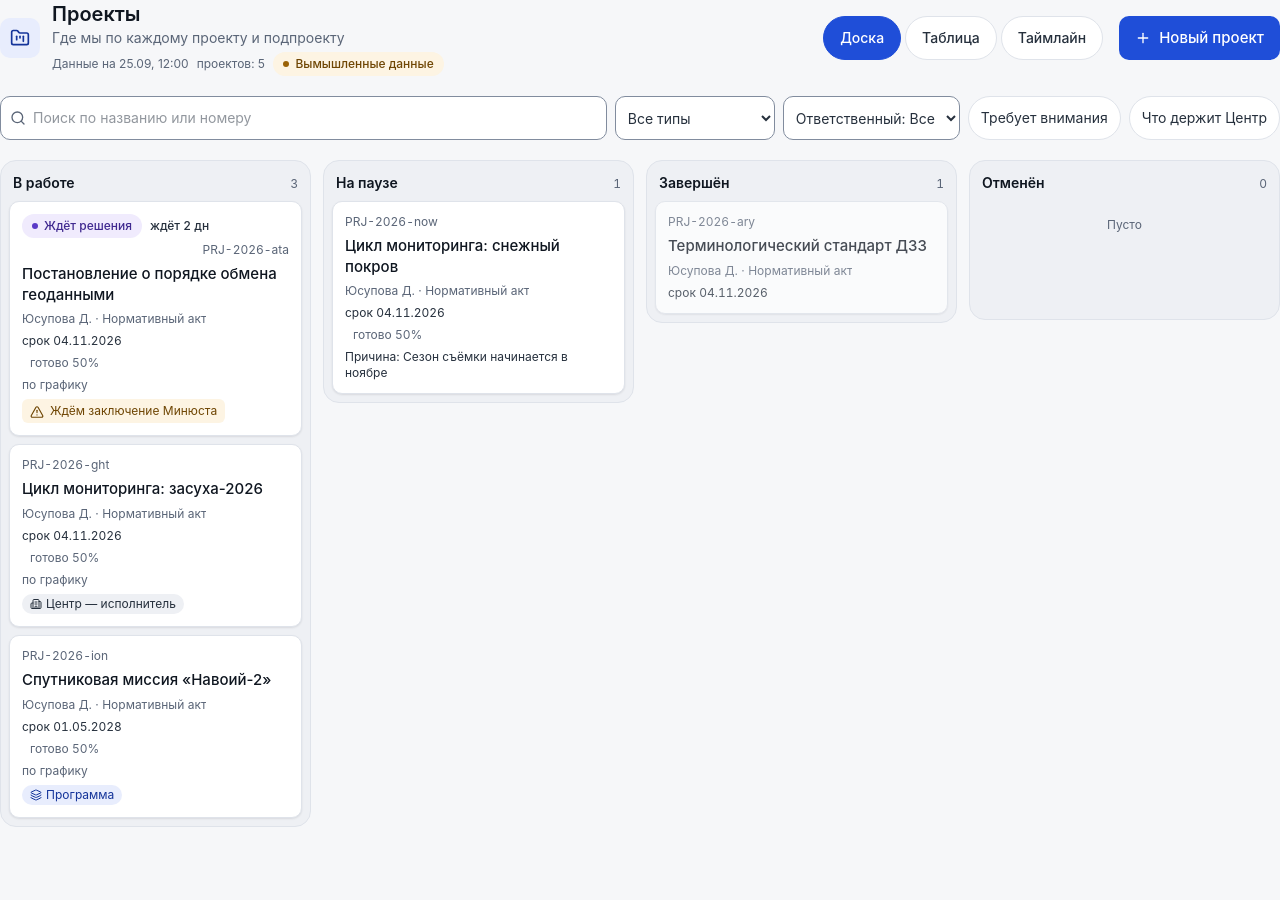
Scenario: Проекты › новый проект — название и тип, вехи из шаблона
Click the button "Новый проект".
click(1200, 38)  # box [1119,16,1279,60]
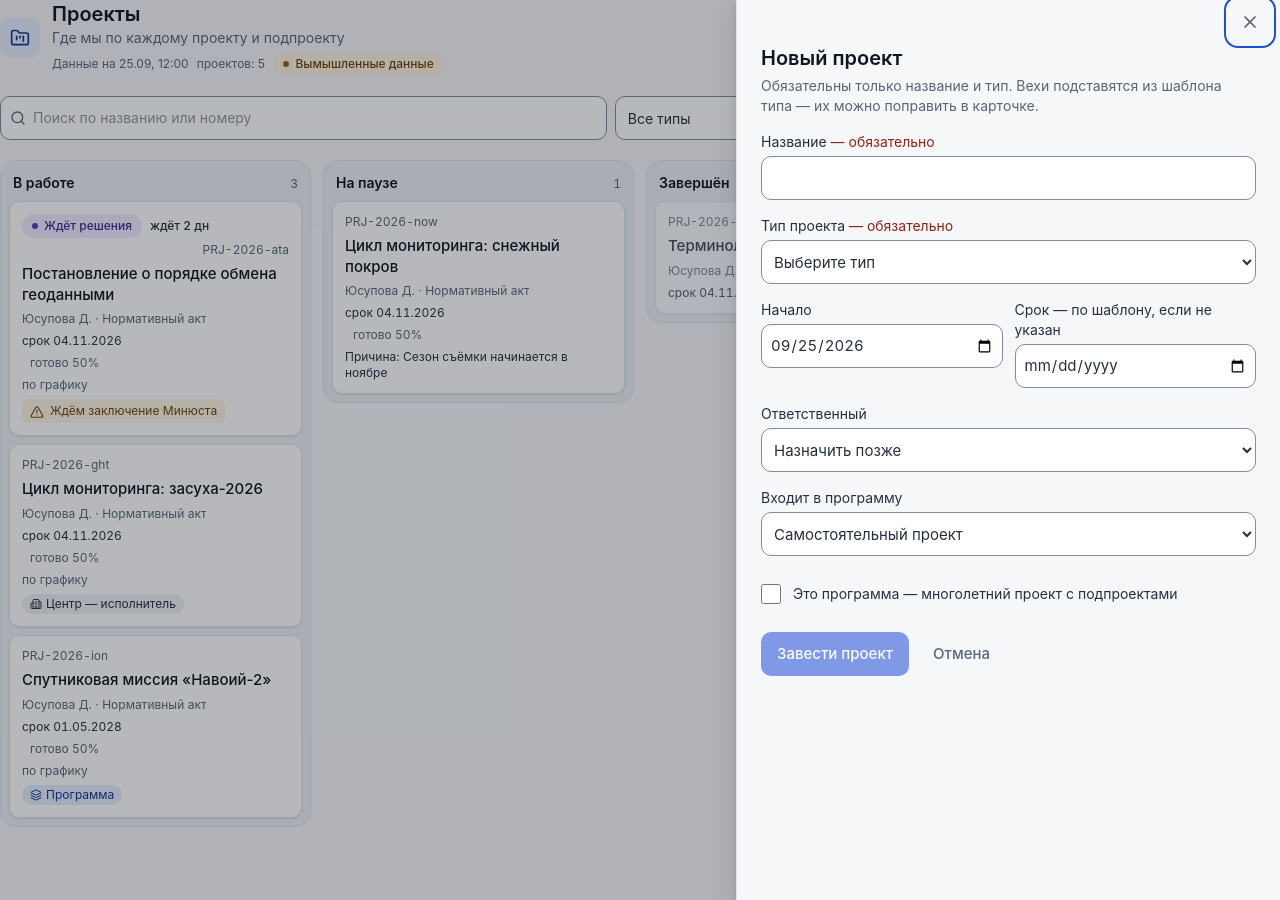
Now the button "Завести проект" is disabled, box [761,632,909,676]
Type "Положение о спутниковых данных" into the field labelled "Название — обязательно".
click(1008, 178); type("Положение о спутниковых данных")  # box [761,156,1256,200]
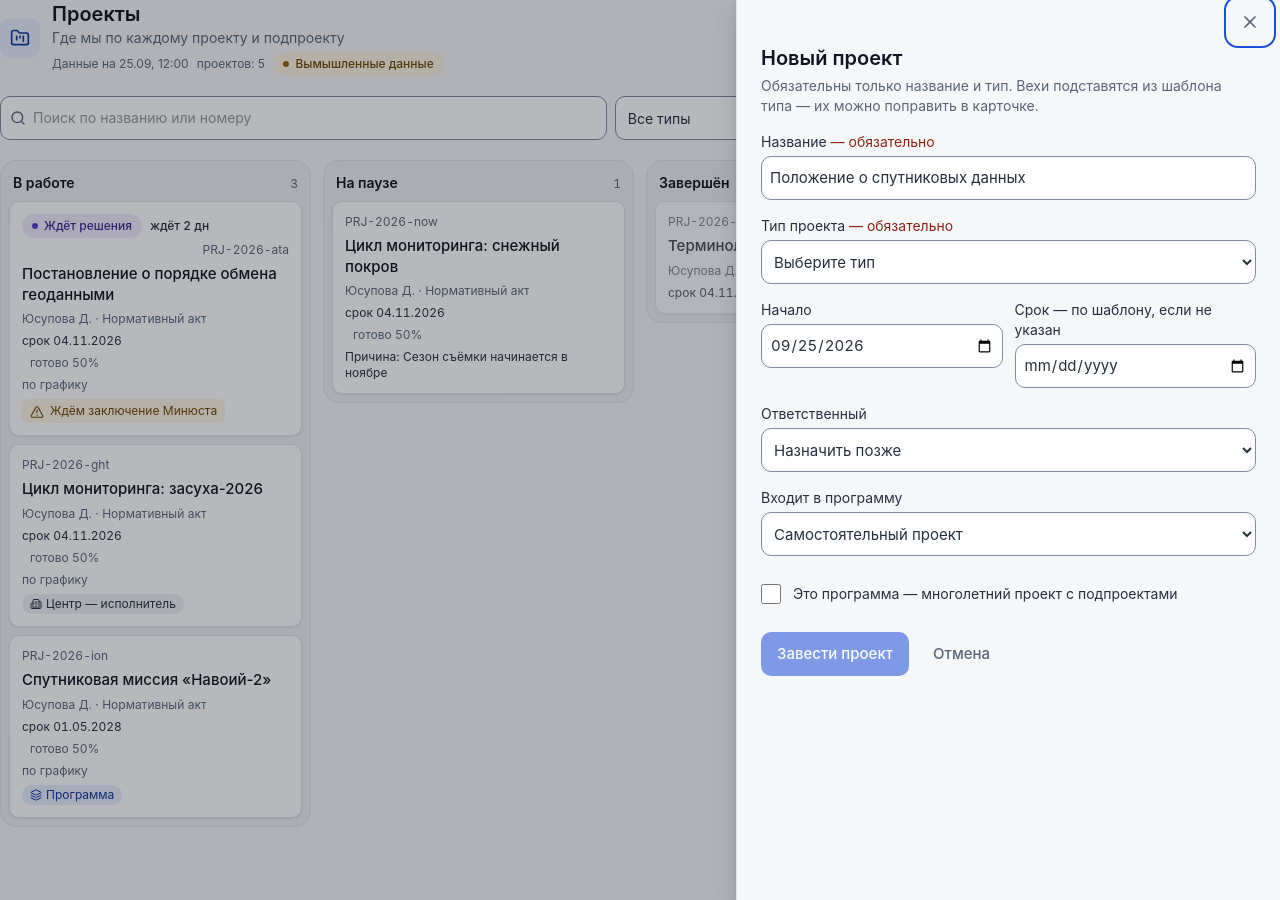
Select "Нормативный акт" in the dropdown labelled "Тип проекта — обязательно" at (1008, 262), box [761,240,1256,284]
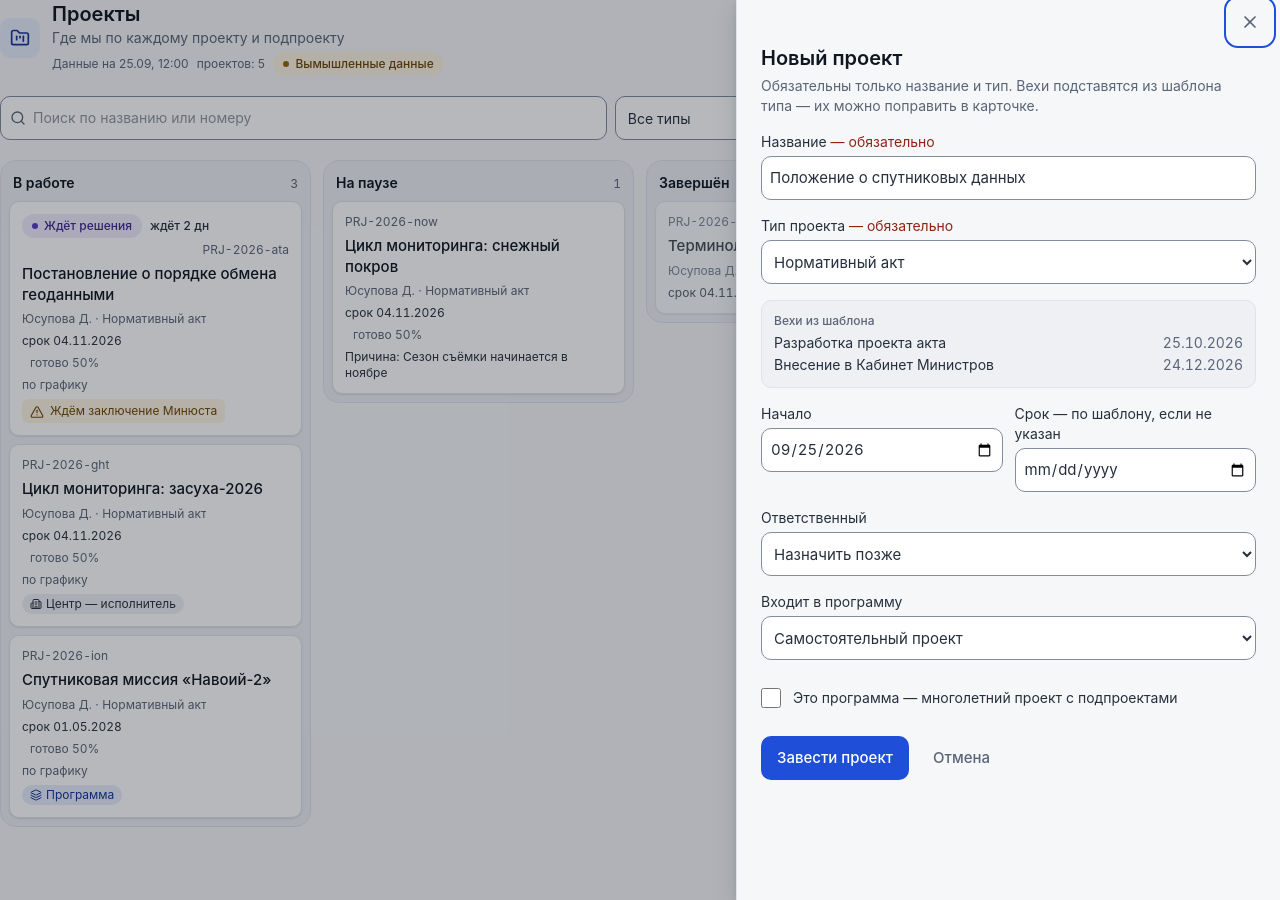
Now the heading "Вехи из шаблона" is shown, box [774,313,874,328]
Now the text "Внесение в Кабинет Министров" is shown, box [774,355,994,375]
Click the button "Завести проект".
click(835, 758)  # box [761,736,909,780]
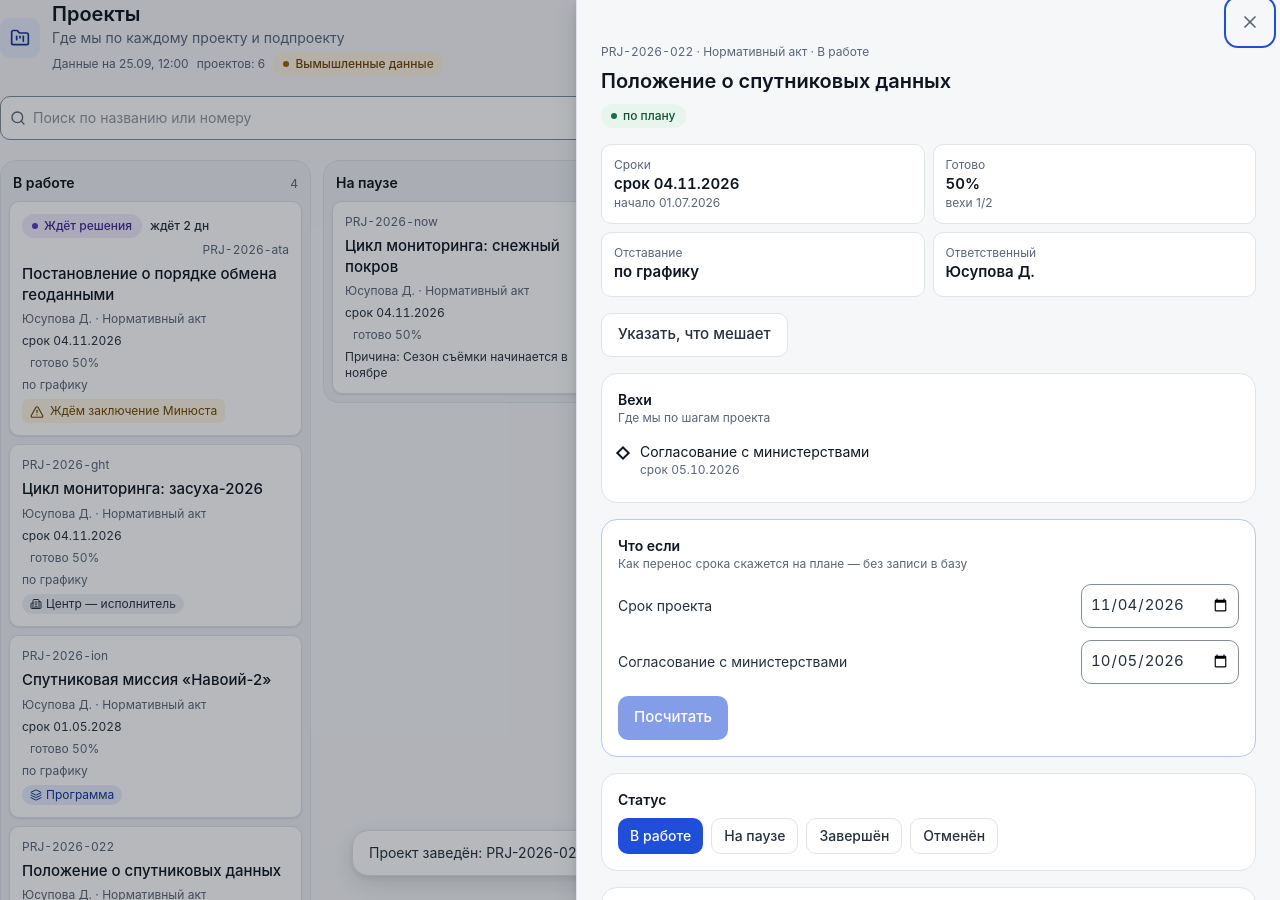
Now the text "Проект заведён: PRJ-2026-022" is shown, box [352,830,928,876]
Now the heading "Положение о спутниковых данных" is shown, box [601,69,951,93]
